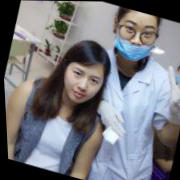NONE: (58, 62, 107, 110)
WRONG: (110, 11, 164, 65)
